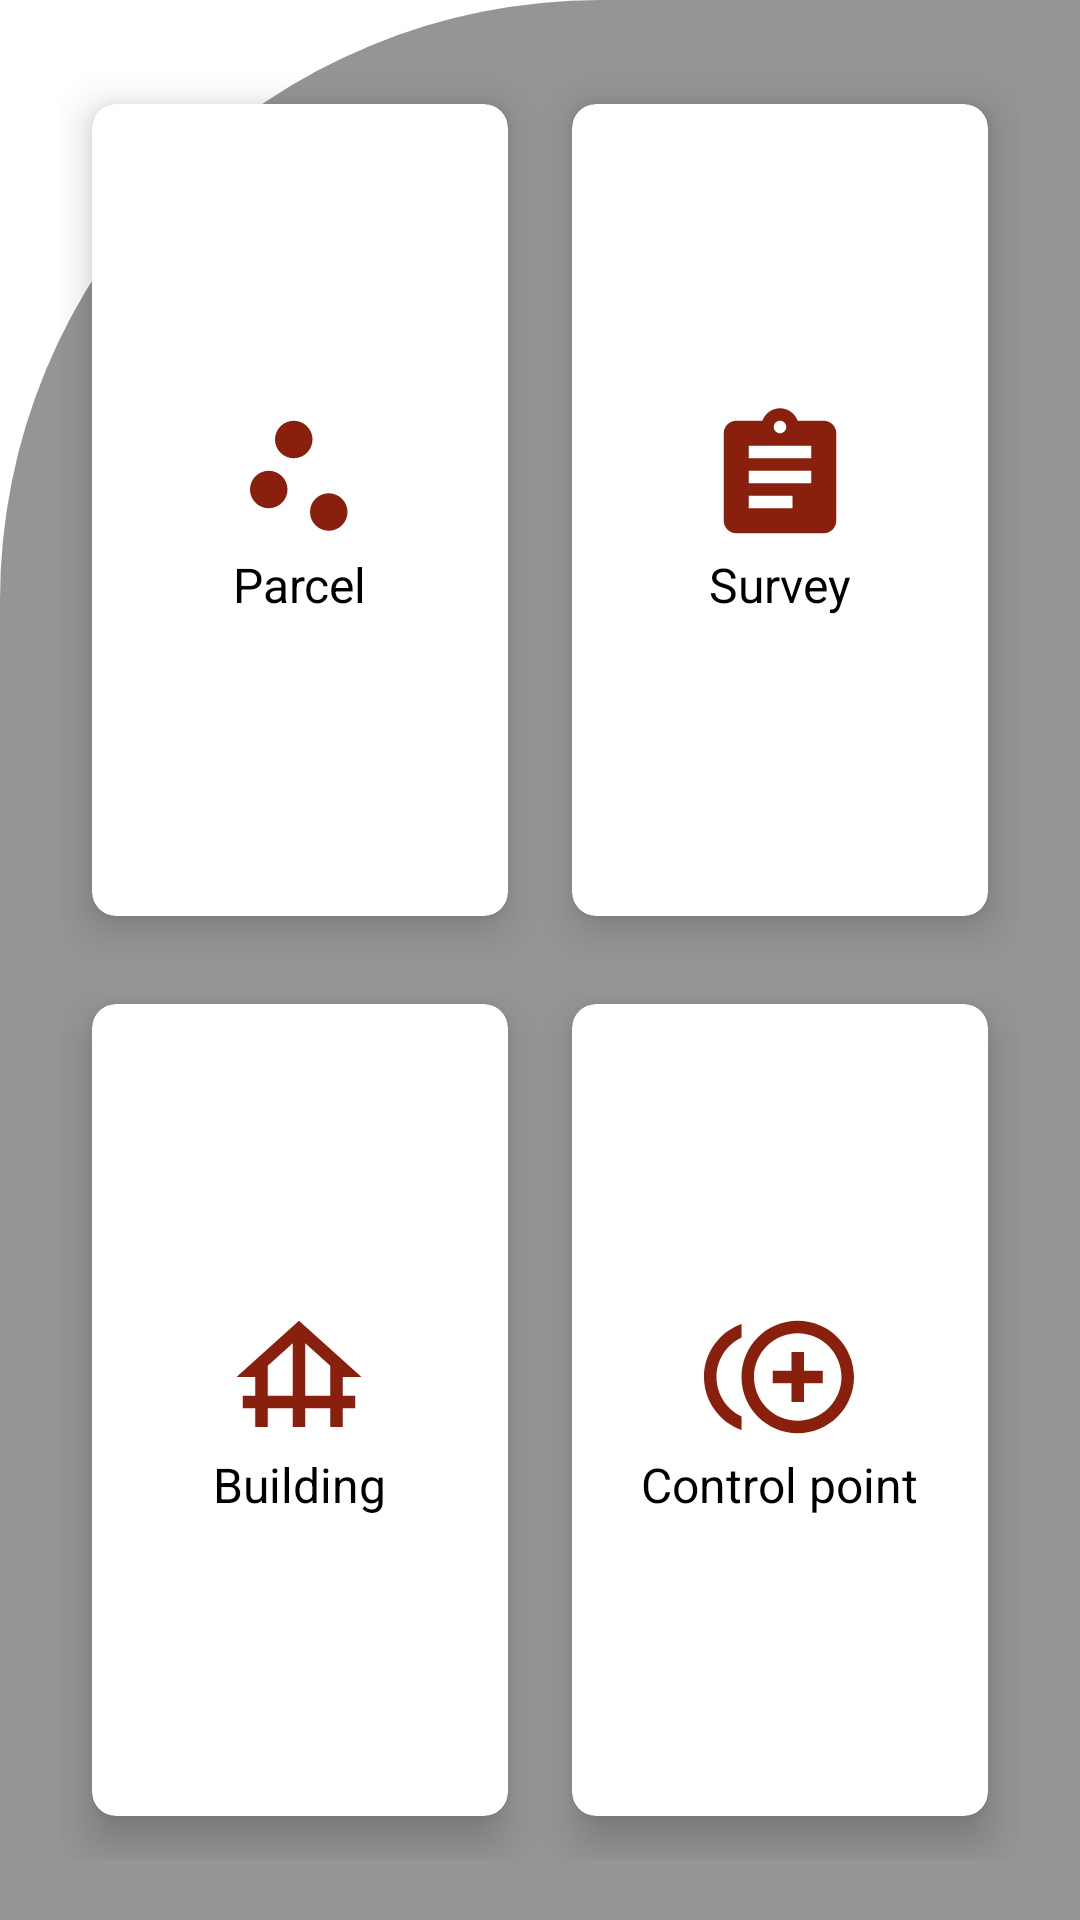

Locate icon controls on the screen. Image size 1080 x 1920, boxes as {"x1": x1, "y1": y1, "x2": x2, "y2": y2}.
assignment: {"x1": 723, "y1": 408, "x2": 837, "y2": 534}
foundation: {"x1": 237, "y1": 1321, "x2": 361, "y2": 1427}
scatter plot: {"x1": 250, "y1": 420, "x2": 348, "y2": 531}
